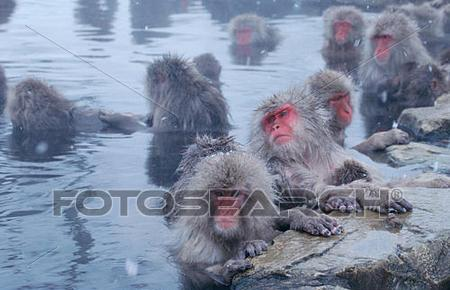monkey: (243, 7, 411, 218)
